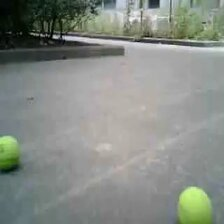tennis: (177, 183, 214, 224), (1, 135, 22, 173)
